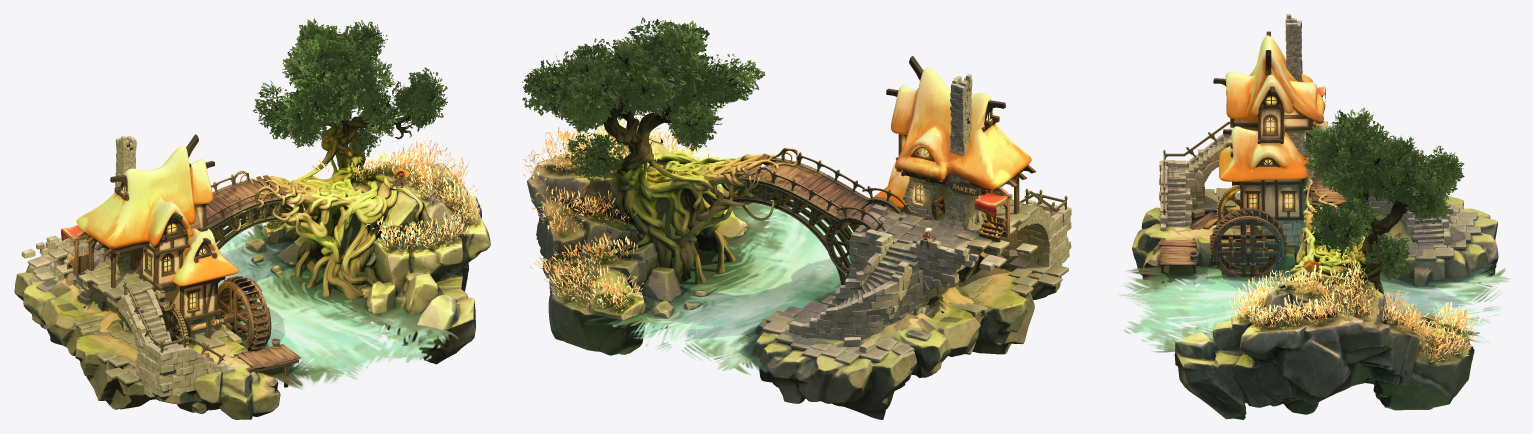
The model's file is baker_and_the_bridge.glb.
3 views of the same model, side by side, from view 1: azimuth 30°, elevation 25°; view 2: azimuth 150°, elevation 25°; view 3: azimuth 270°, elevation 25° (orthographic). The views are drawn at different scales.
Visible parts, largest first — view 1: characters.003, characters.009, characters.004, characters.008, characters.007, characters.006, characters, characters.002, characters.010, characters.005, characters.001; view 2: characters.003, characters.009, characters, characters.007, characters.008, characters.004, characters.006, characters.005, characters.010, characters.001, characters.002; view 3: characters.009, characters.007, characters.004, characters.008, characters.003, characters.010, characters.002, characters, characters.006, characters.005.
Boxes of the visible parts, box(x1,y1,x2,y2) form: characters.003: box(14, 254, 280, 419); characters.009: box(245, 162, 490, 364); characters.004: box(61, 134, 238, 342); characters.008: box(212, 223, 458, 389); characters.007: box(252, 18, 447, 156); characters.006: box(232, 32, 436, 299); characters: box(21, 235, 242, 349); characters.002: box(122, 275, 301, 387); characters.010: box(257, 140, 486, 254); characters.005: box(206, 170, 302, 249); characters.001: box(66, 167, 410, 274); characters.003: box(751, 198, 1071, 419); characters.009: box(527, 137, 748, 355); characters: box(762, 200, 1038, 364); characters.007: box(522, 17, 765, 180); characters.008: box(567, 199, 853, 379); characters.004: box(874, 56, 1035, 237); characters.006: box(533, 36, 820, 284); characters.005: box(707, 150, 911, 284); characters.010: box(521, 114, 710, 313); characters.001: box(636, 127, 1007, 248); characters.002: box(859, 188, 1067, 282); characters.009: box(1174, 265, 1474, 419); characters.007: box(1302, 107, 1464, 280); characters.004: box(1213, 14, 1325, 234); characters.008: box(1119, 264, 1510, 352); characters.003: box(1132, 128, 1498, 286); characters.010: box(1222, 236, 1481, 365); characters.002: box(1158, 121, 1287, 283); characters: box(1221, 112, 1481, 265); characters.006: box(1278, 123, 1432, 293); characters.005: box(1303, 155, 1364, 236).
Bounding box in the file's own units: 38.19 × 23.77 × 31.6.
Materials: 11 (11 with a texture image).
